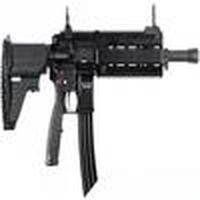gun: (3, 29, 200, 136)
